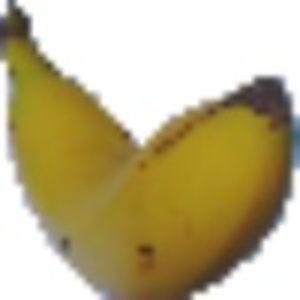banana: (3, 2, 299, 299)
